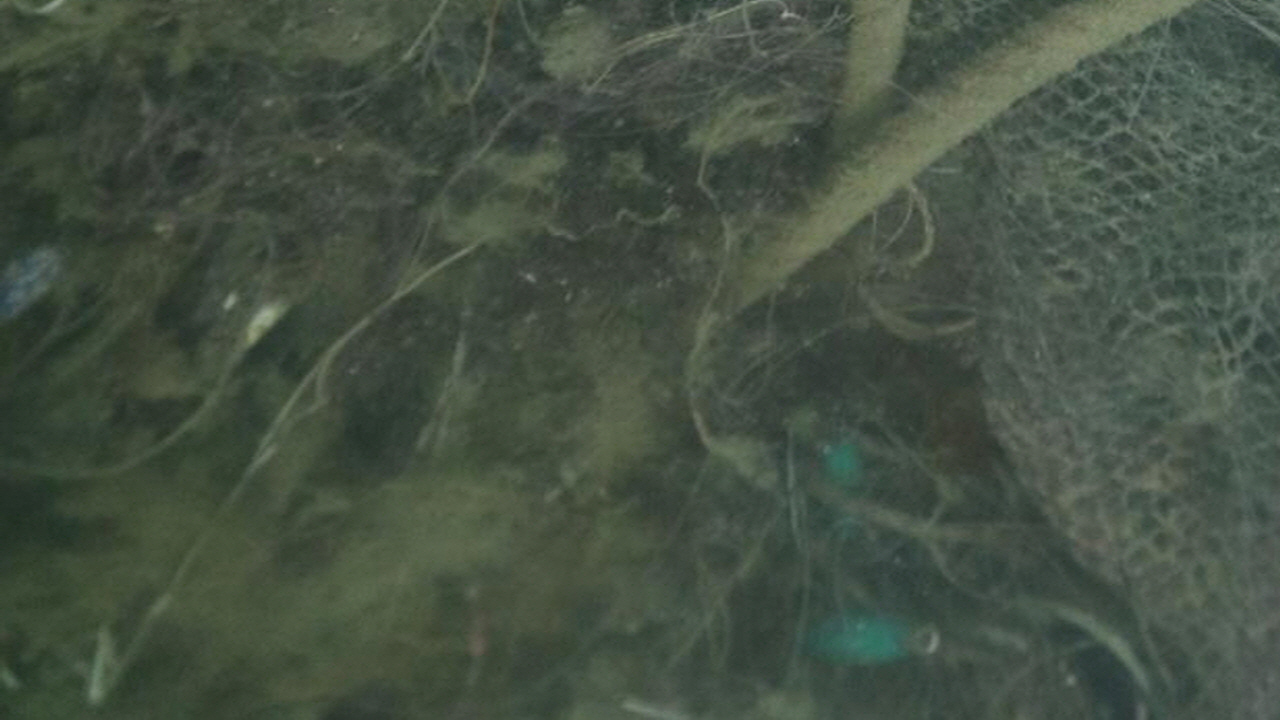fish net: (906, 0, 1280, 720)
